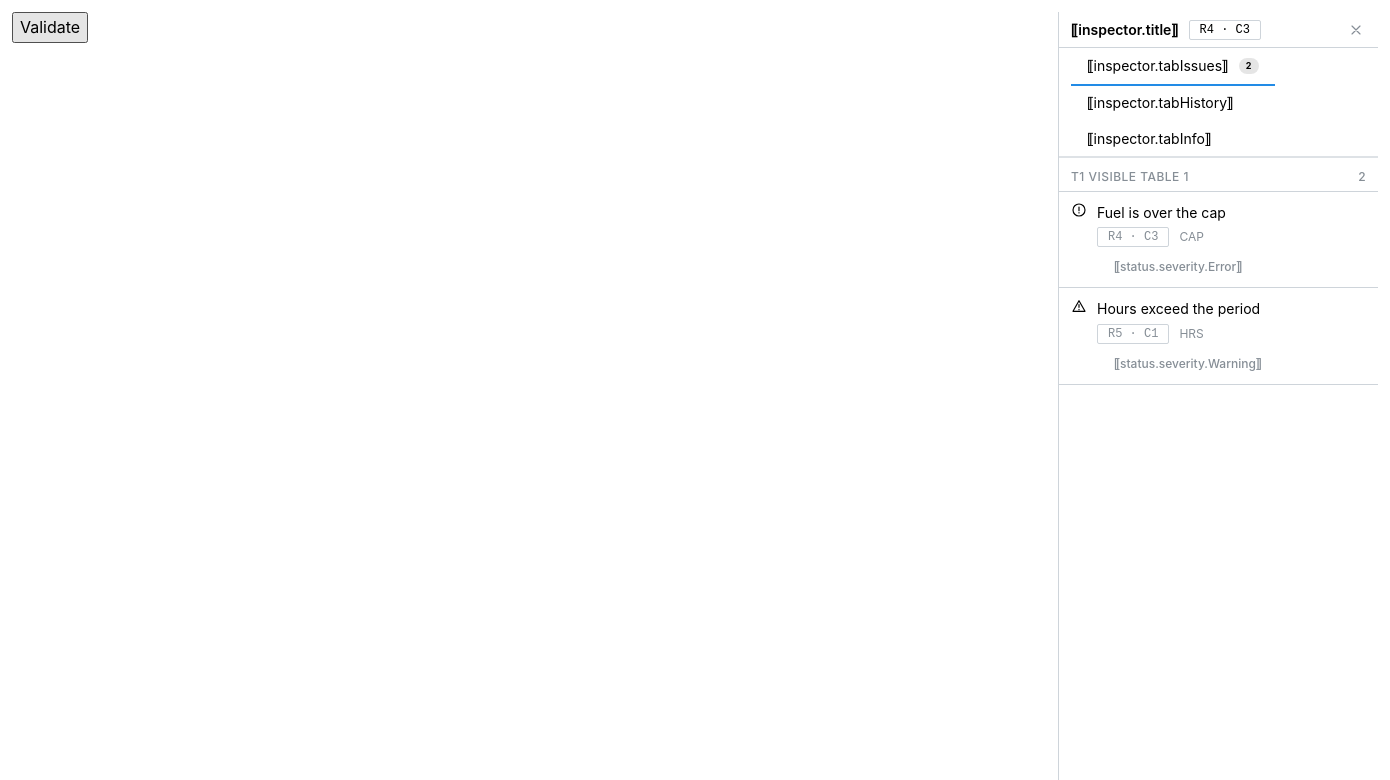
Scenario: Scope: роль бачить один аркуш › ⛔ прихований аркуш: ні тексту, ні назви, ні лічильника; null → «—»
The width and height of the screenshot is (1390, 780).
Check: the button "⟦document.issuesCount.other (count=2)⟧" is shown, box [1064,43,1344,67]
Check: the tab "⟦inspector.tabIssues⟧ 2" is shown, box [1071,48,1275,86]
What coordinates should you click on to do the following:
click the tab "⟦inspector.tabInfo⟧"
I would click on:
 (1149, 140)
Its box is [1071,122,1228,158].
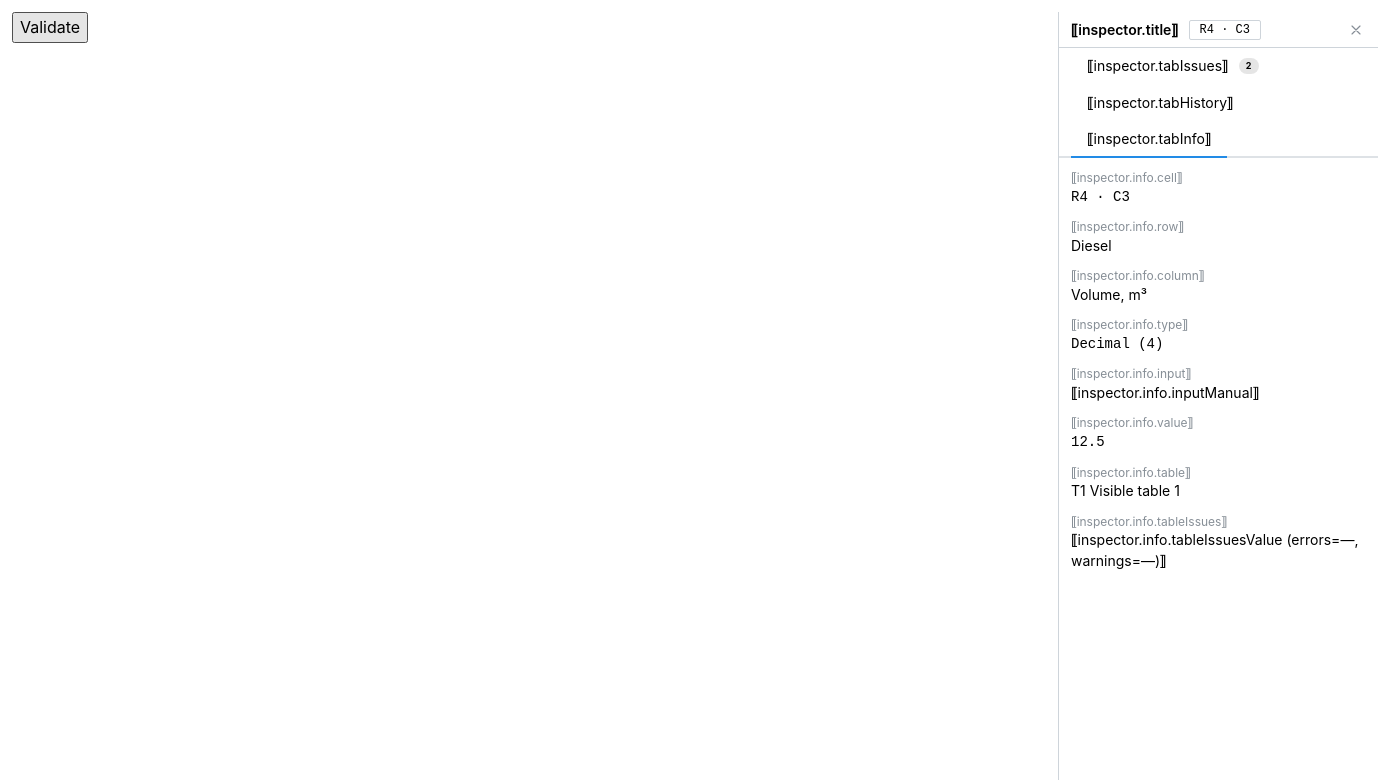
Check: the text "⟦inspector.info.tableIssuesValue (errors=—, warnings=—)⟧" is shown, box [1071,530,1366,571]
